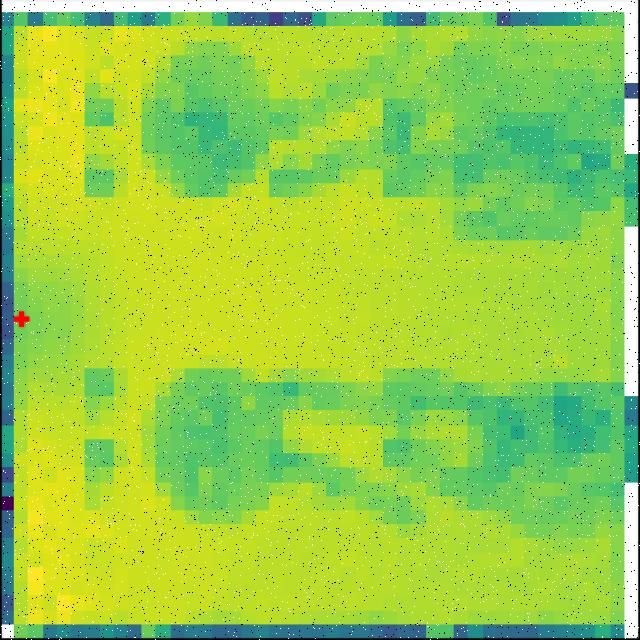Concrete: (458, 381, 601, 550)
Glass: (150, 357, 286, 528)
Metal: (452, 43, 587, 240)
Wood: (128, 33, 265, 203)
